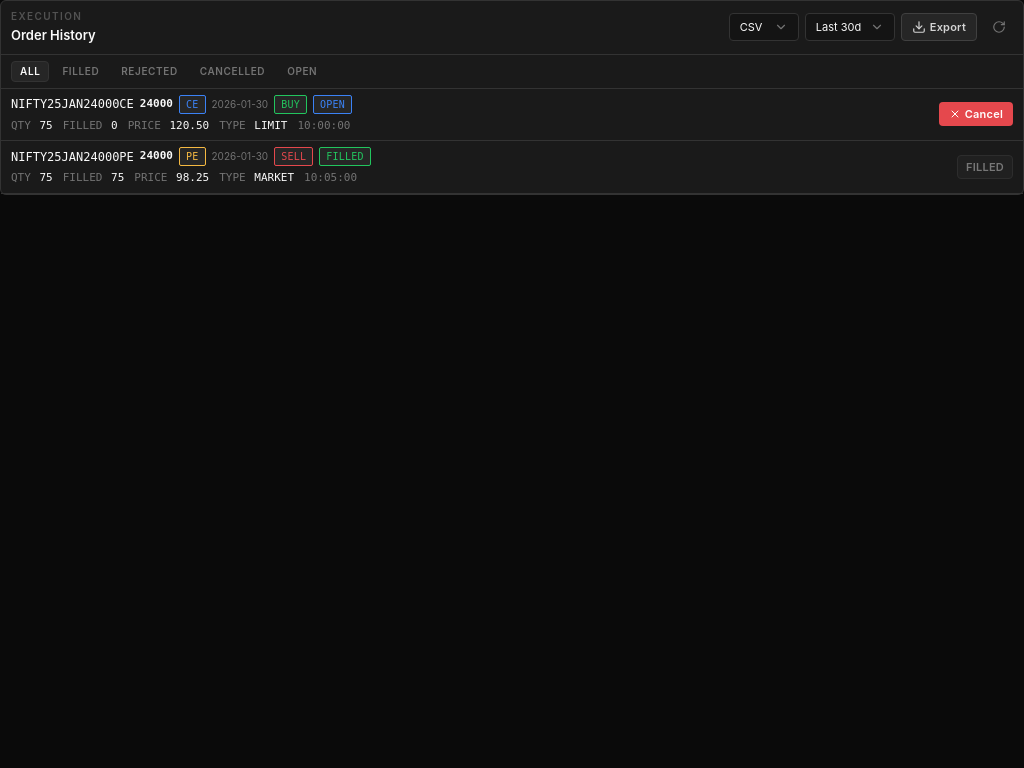
it: OrderHistory › clicking cancel opens a confirmation dialog
Check: the text "NIFTY25JAN24000CE" is shown, box [11,95,134,113]
Click the button "Cancel" at {"x": 976, "y": 114}, box [939,102,1013,126]
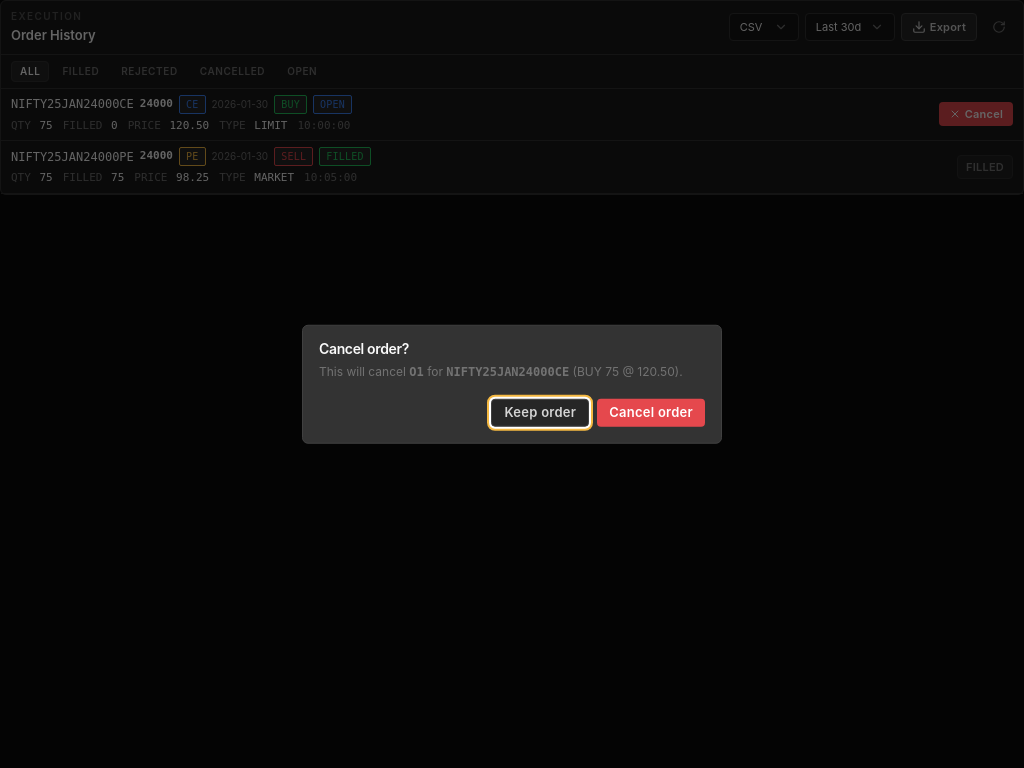
Check: the heading "Cancel order?" is shown, box [319,340,409,357]
